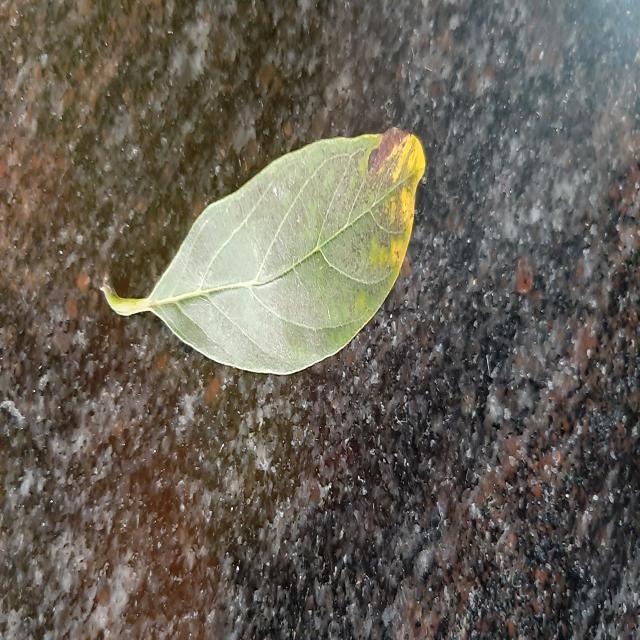leaf spot: (104, 127, 425, 374)
